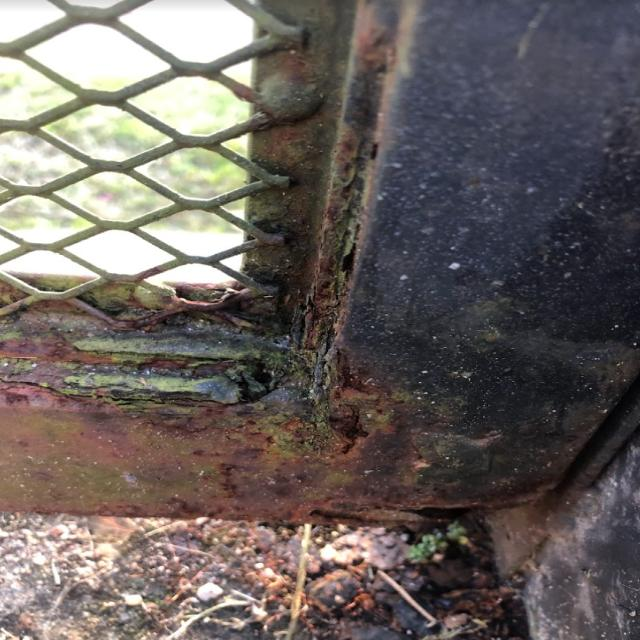corrosion: (0, 0, 612, 525)
